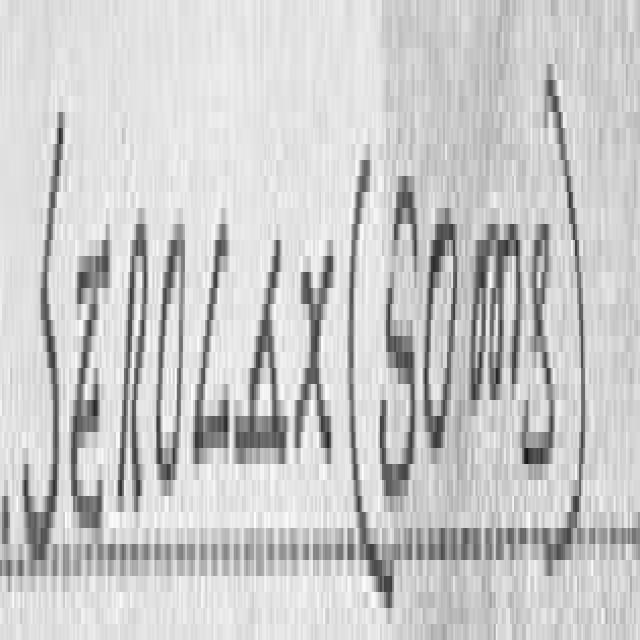0: (427, 224, 459, 440)
5: (380, 181, 418, 496), (351, 224, 359, 424)
A: (233, 221, 290, 483)
E: (70, 239, 112, 520)
L: (195, 199, 230, 470)
O: (156, 224, 184, 472)
R: (118, 203, 149, 488)
S: (24, 112, 62, 552)
X: (296, 234, 335, 479)
g: (524, 224, 557, 456)
m: (473, 208, 522, 421)
